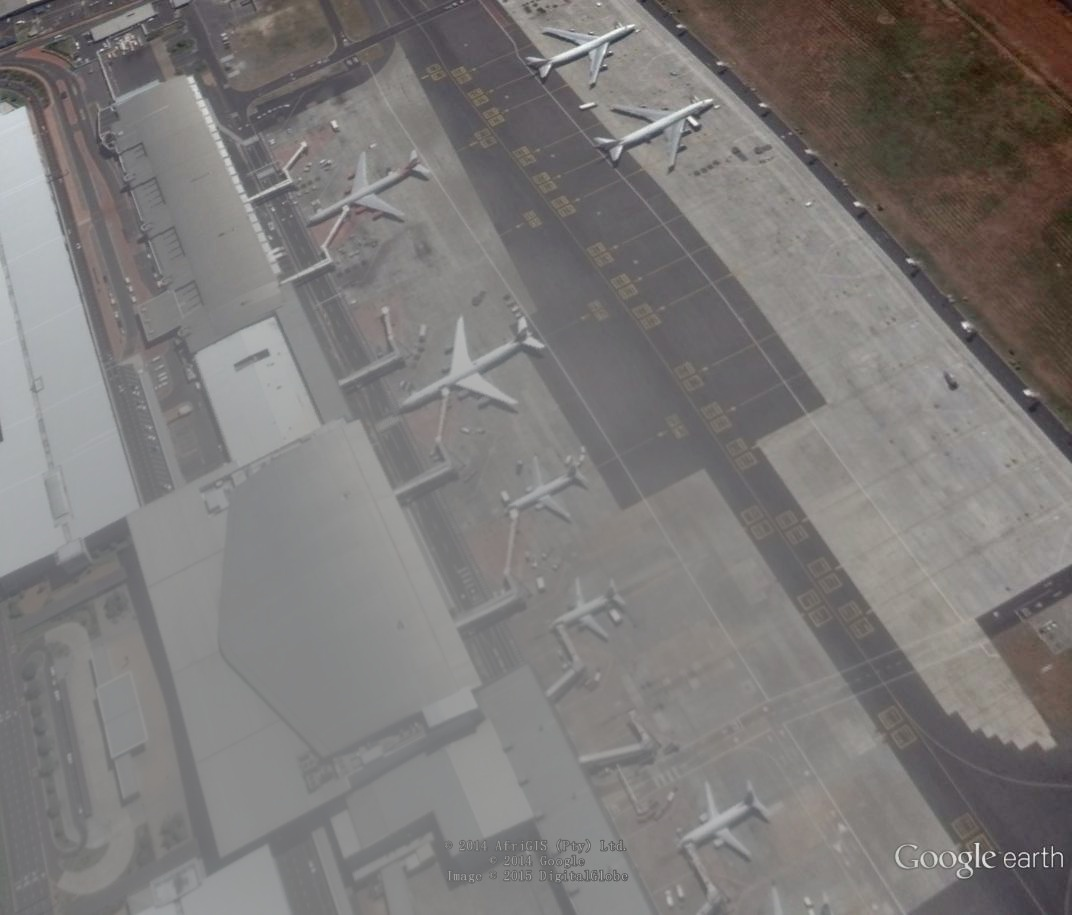aircraft: (392, 310, 556, 421), (302, 147, 442, 229), (592, 96, 721, 180), (675, 778, 778, 870), (522, 21, 642, 94), (502, 456, 597, 528), (546, 577, 634, 648)
